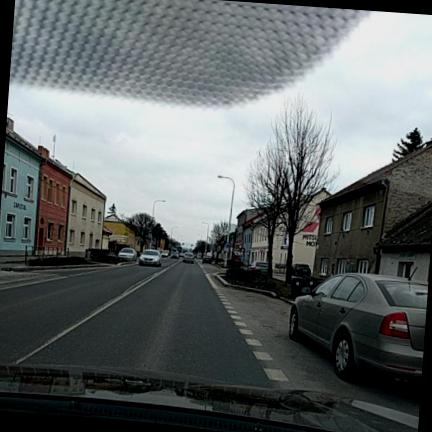Road: (0, 260, 420, 415)
